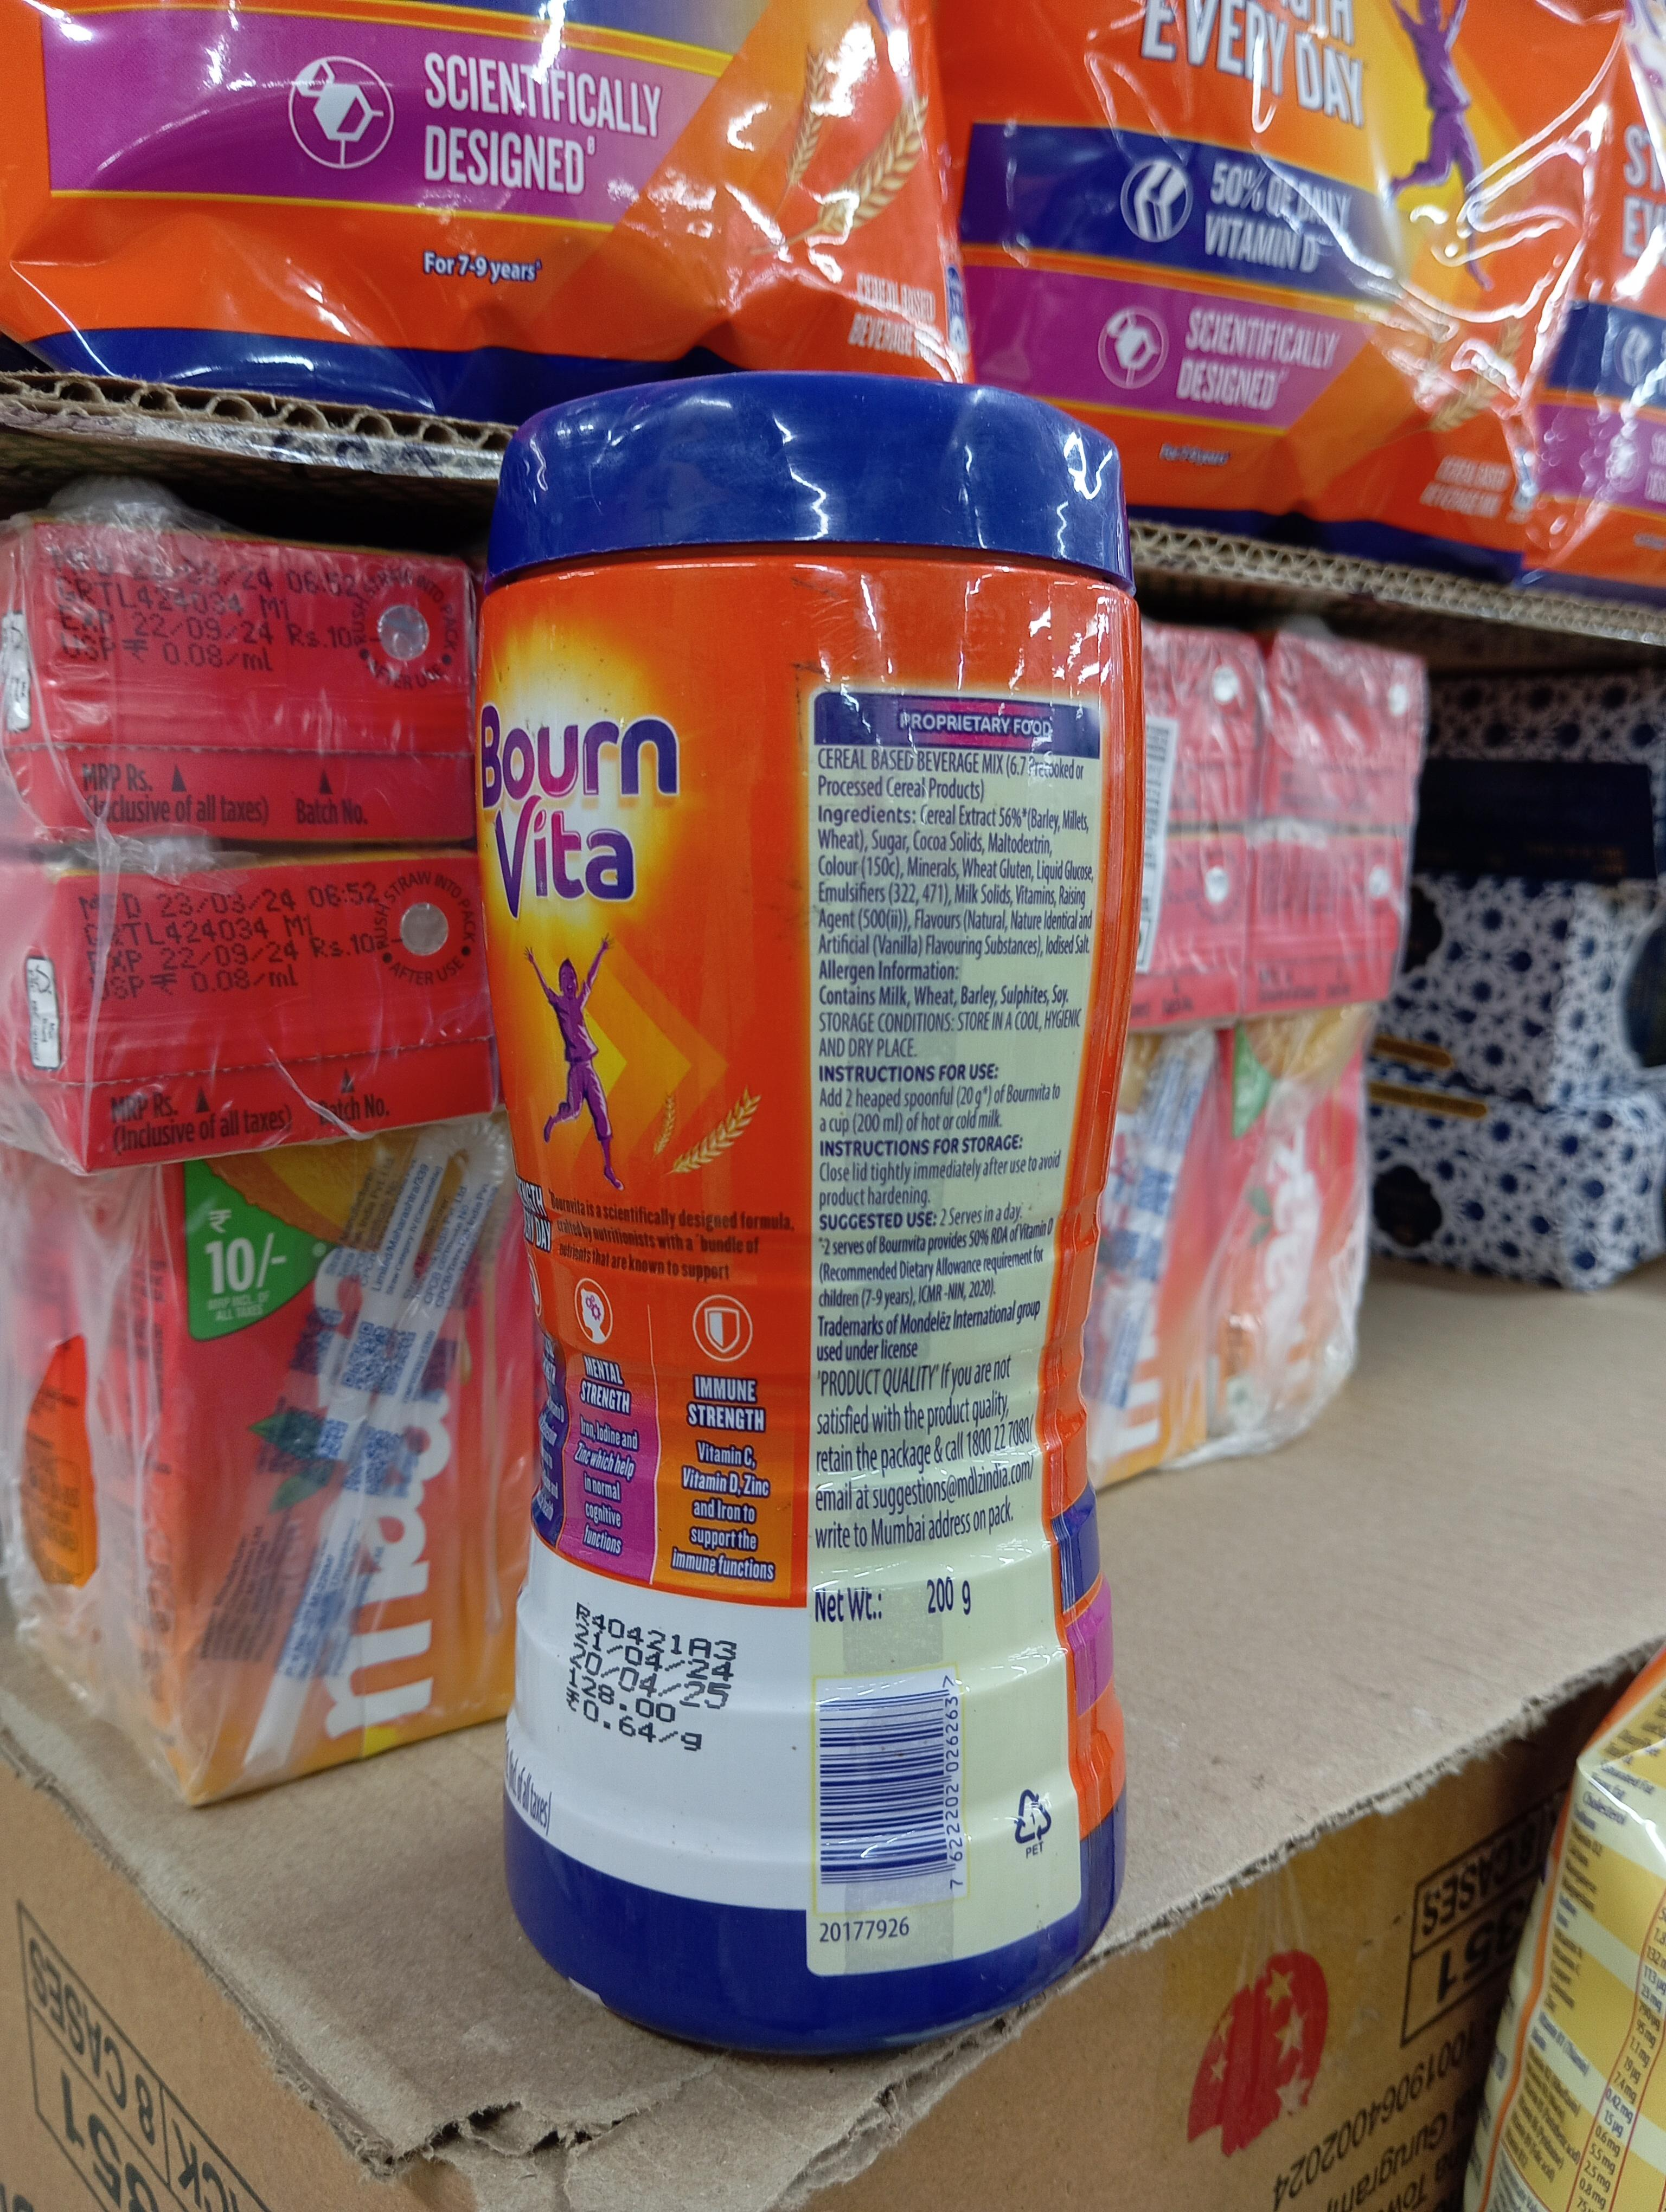BOURN_VITA_200_G_JAR: (467, 341, 1148, 2034)
